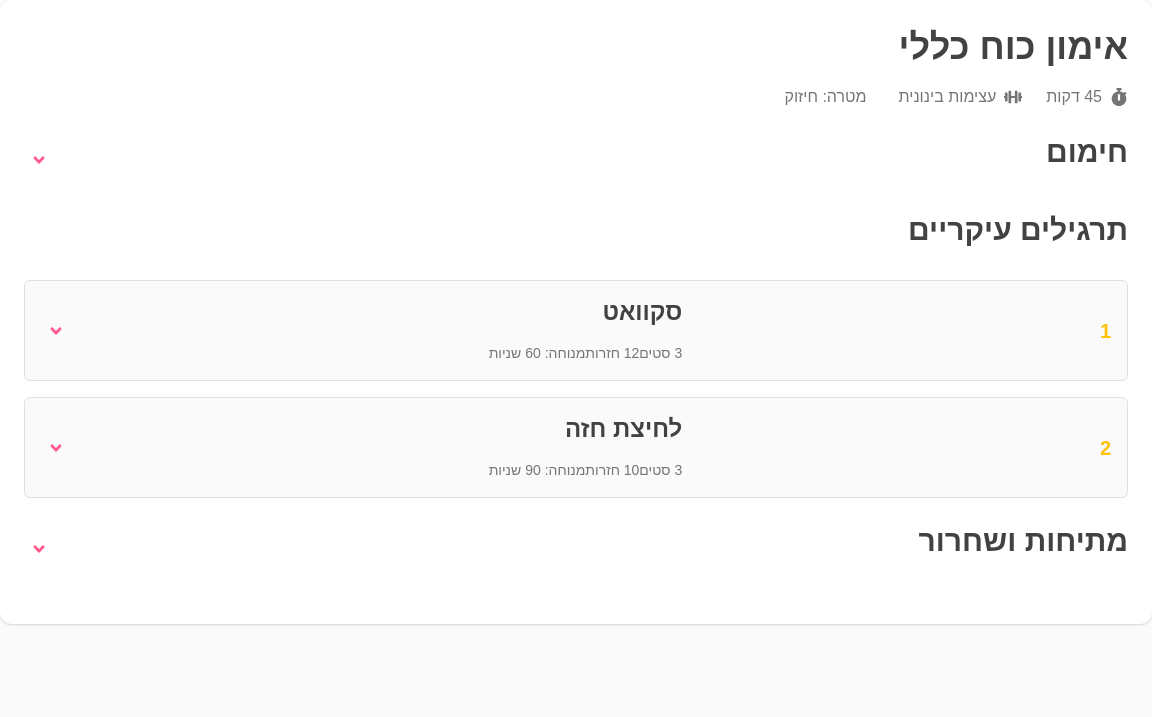
WorkoutPlan Component › expands and collapses warmup section when clicked
Expected: the text "ריצה קלה במקום" is not shown
Click on warmup header to expand
Click the heading "חימום": {"x": 1087, "y": 152} [1046,133,1128,170]
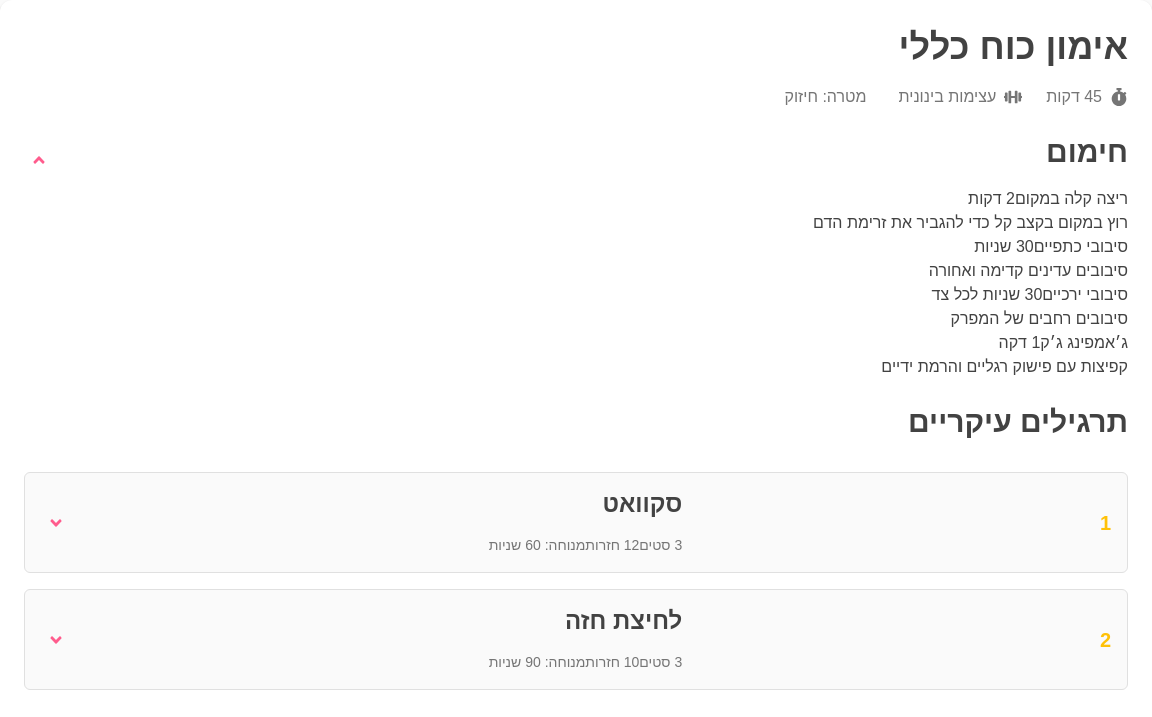
Expected: the text "ריצה קלה במקום" is shown, [1015,190,1128,206]
Expected: the text "2 דקות" is shown, [968,190,1015,206]
Click again to collapse
Click the heading "חימום": {"x": 1087, "y": 152} [1046,133,1128,170]
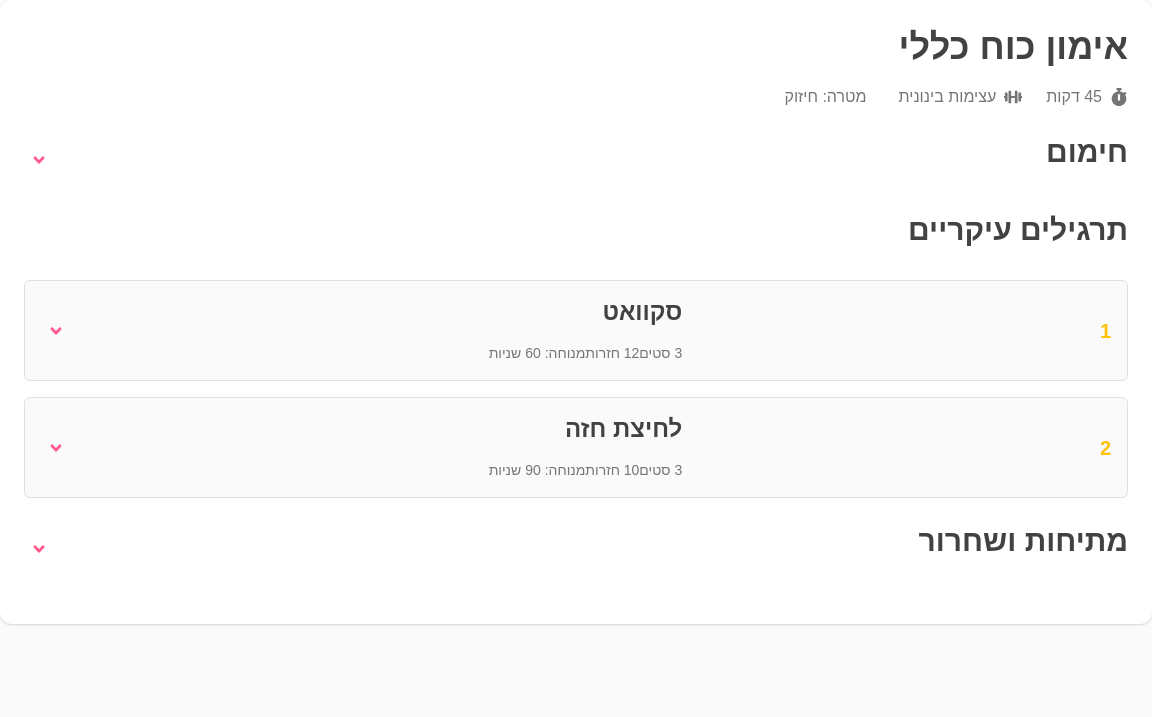
Expected: the text "ריצה קלה במקום" is gone
